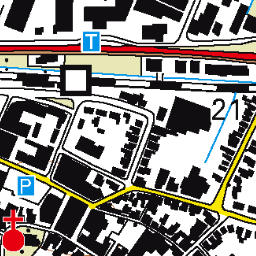church: (1, 207, 29, 252)
